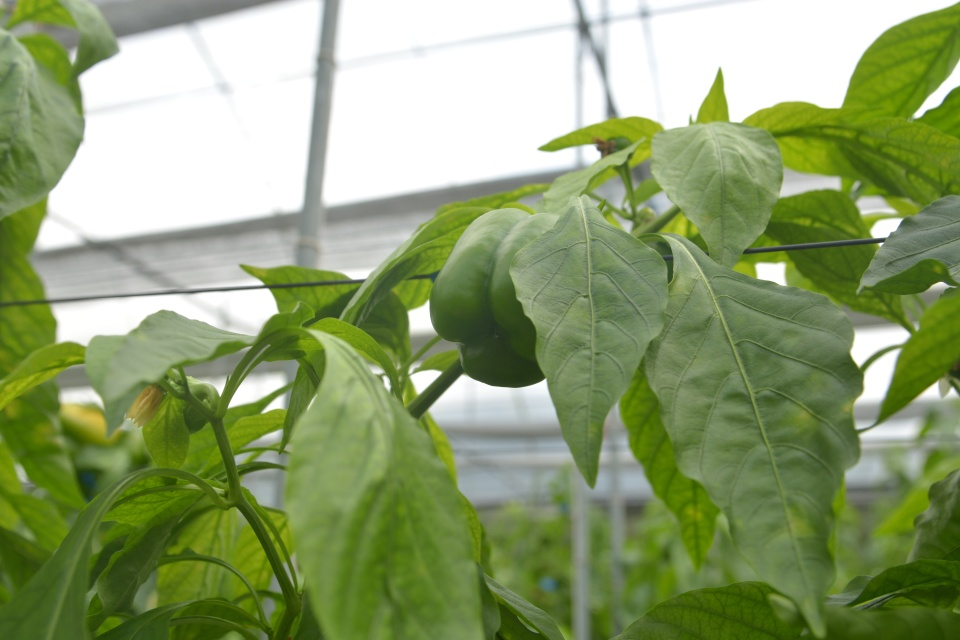flower: (122, 381, 167, 430)
fruit: (427, 204, 563, 389)
